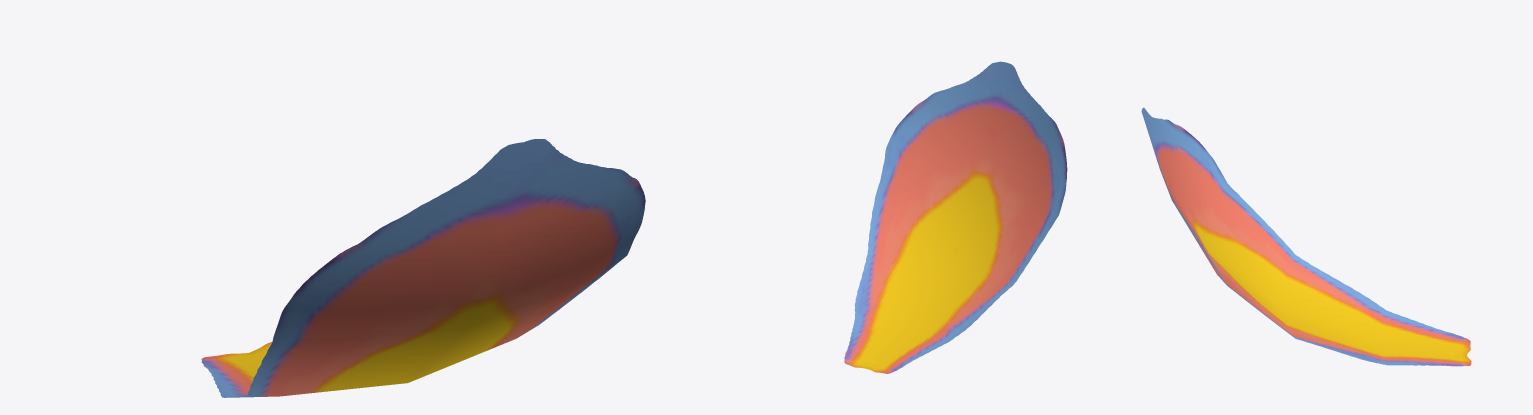
File: Skill3018_markFolwer.fbx
The picture shows the model from 3 angles, left to right: view 1: azimuth 30°, elevation 25°; view 2: azimuth 150°, elevation 25°; view 3: azimuth 270°, elevation 25°; orthographic projection. The views are drawn at different scales.
Parts seen in each view (by area): view 1: leaf1; view 2: leaf1; view 3: leaf1.
Boxes of the visible parts, x1,y1,x2,y2 form: leaf1: (201, 139, 645, 397); leaf1: (844, 61, 1067, 373); leaf1: (1141, 107, 1471, 366).
Bounding box in the file's own units: 64.63 × 67.15 × 83.15.
